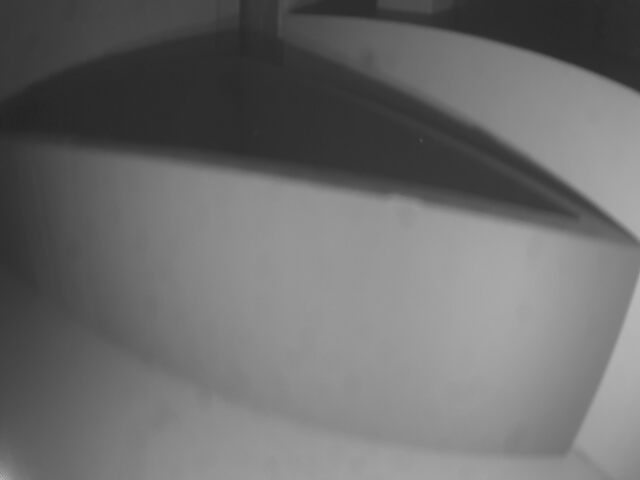Point: (0, 136, 635, 462)
